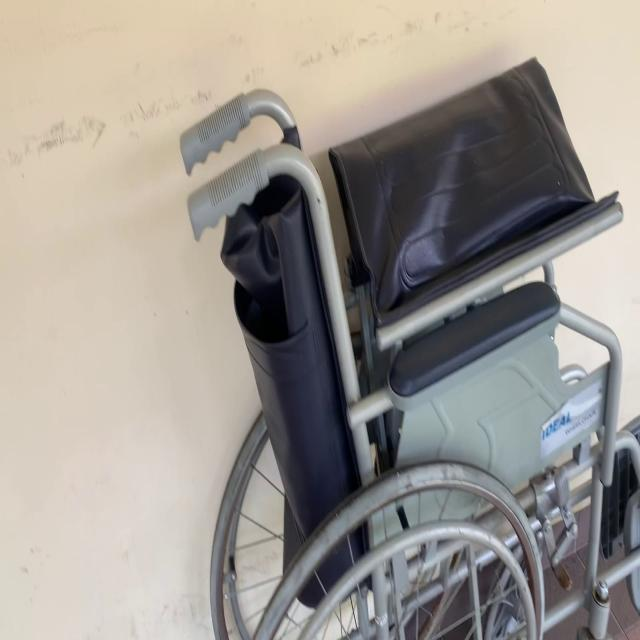wheelchair: (180, 0, 640, 640)
